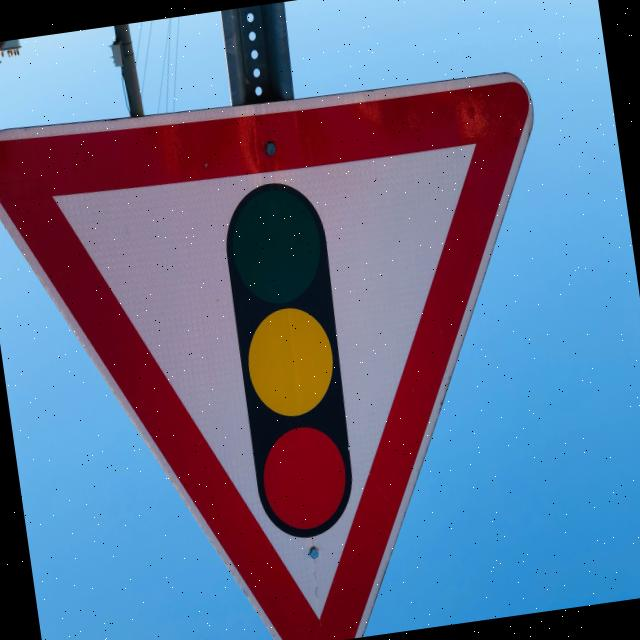light_traffic: (0, 50, 605, 640)
